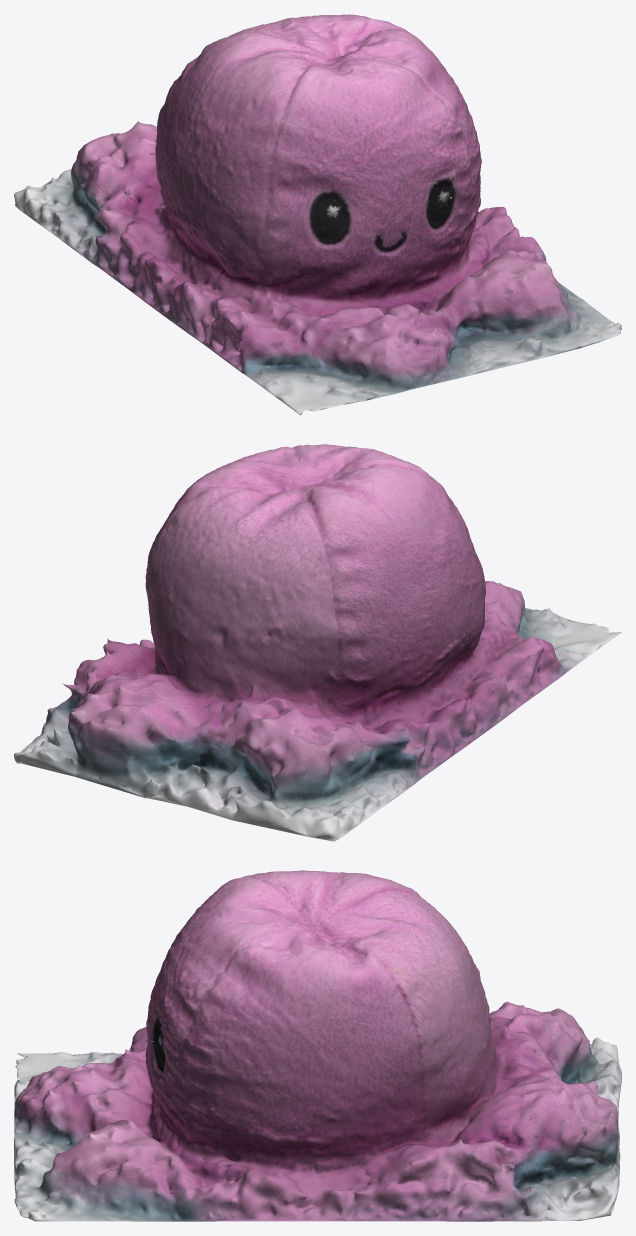
Rendered from demo.gltf.
3 views of the same model, one above another, from view 1: azimuth 30°, elevation 25°; view 2: azimuth 150°, elevation 25°; view 3: azimuth 270°, elevation 25° (orthographic). The views are drawn at different scales.
Visible parts, largest first — view 1: Mustekala; view 2: Mustekala; view 3: Mustekala.
Boxes of the visible parts, x1,y1,x2,y2 form: Mustekala: [14, 14, 621, 415]; Mustekala: [14, 444, 621, 841]; Mustekala: [14, 870, 621, 1221].
Bounding box in the file's own units: 6.73 × 4.48 × 10.33.
1 material, 1 textured.
